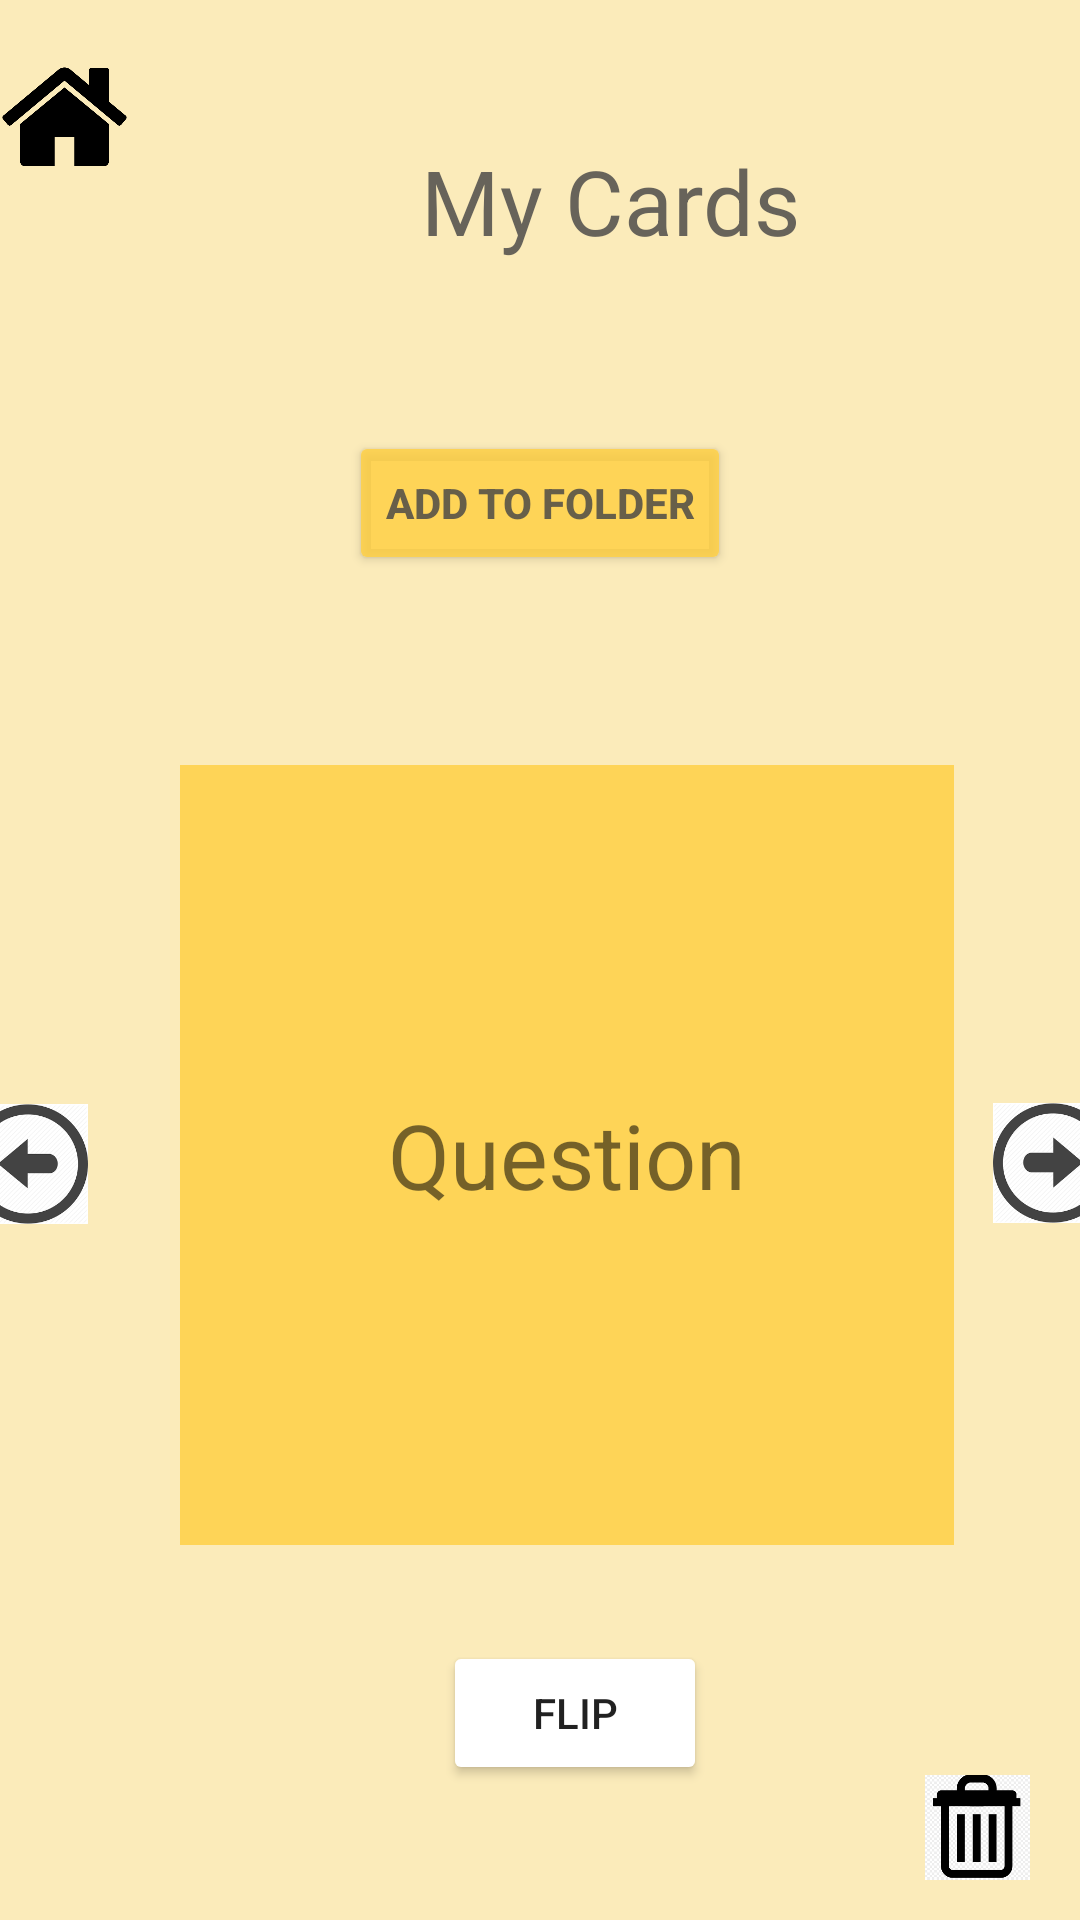

Icons on this 1080*1920 Android screen, each with its box as (x1, y1, x2, y2):
Delete Button: (925, 1775, 1030, 1880)
